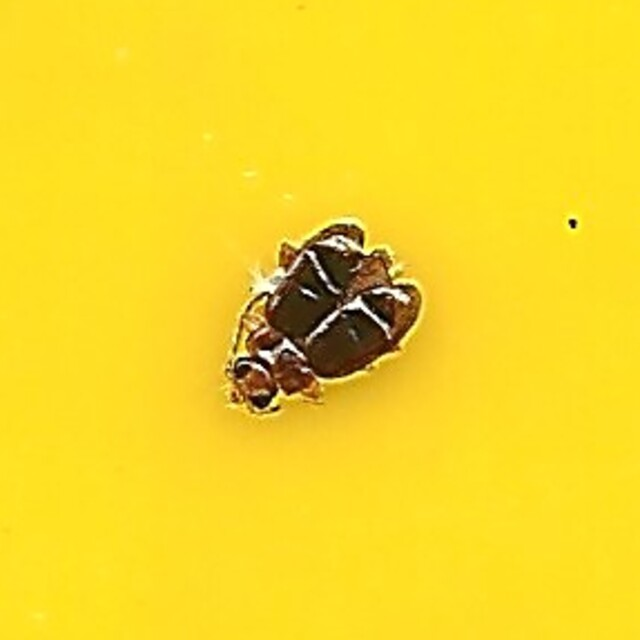Coleoptera: (223, 226, 417, 414)
